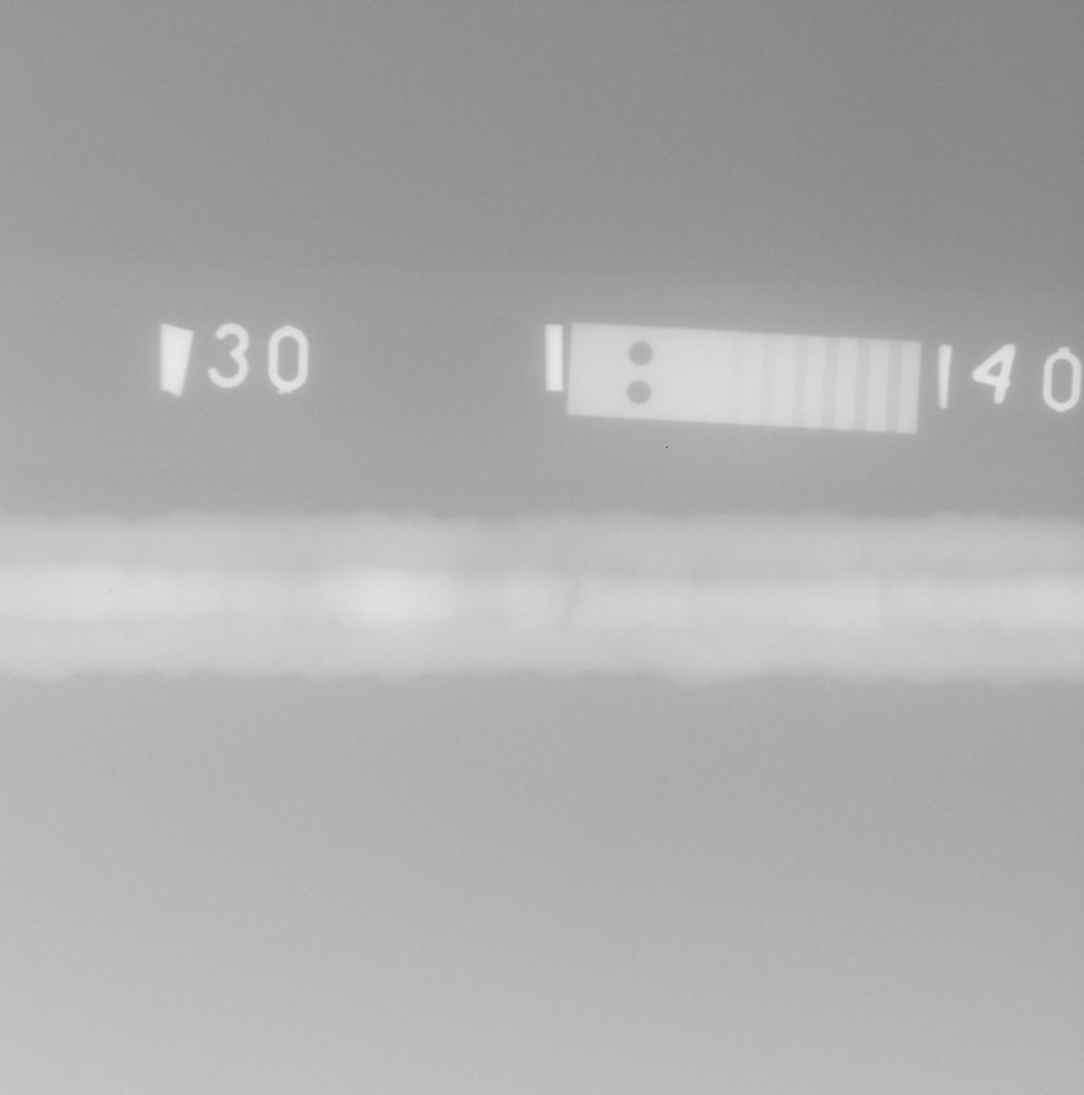Pore/Porosity: (108, 588, 114, 596)
